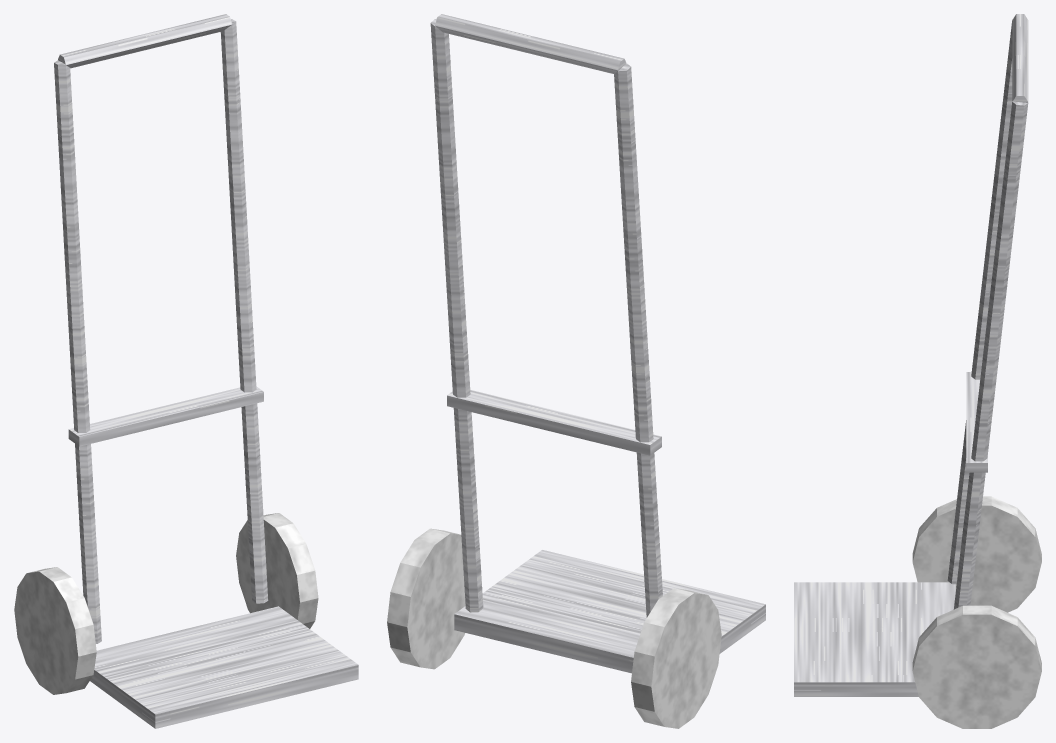
The model's file is carrello_mano.obj.
3 views of the same model, side by side, from view 1: azimuth 30°, elevation 25°; view 2: azimuth 150°, elevation 25°; view 3: azimuth 270°, elevation 25° (orthographic). The views are drawn at different scales.
Visible parts, largest first — view 1: metallo_000, gomma_001; view 2: metallo_000, gomma_001; view 3: metallo_000, gomma_001.
Part boxes in pixels (left/top/right/bottom): metallo_000: left=54, top=14, right=358, bottom=728; gomma_001: left=14, top=513, right=318, bottom=694; metallo_000: left=430, top=14, right=765, bottom=673; gomma_001: left=387, top=528, right=721, bottom=728; metallo_000: left=794, top=14, right=1028, bottom=696; gomma_001: left=912, top=496, right=1041, bottom=728.
Size of the model in its own units: 0.52 by 1.26 by 0.46.
Materials: 2 (2 with a texture image).
